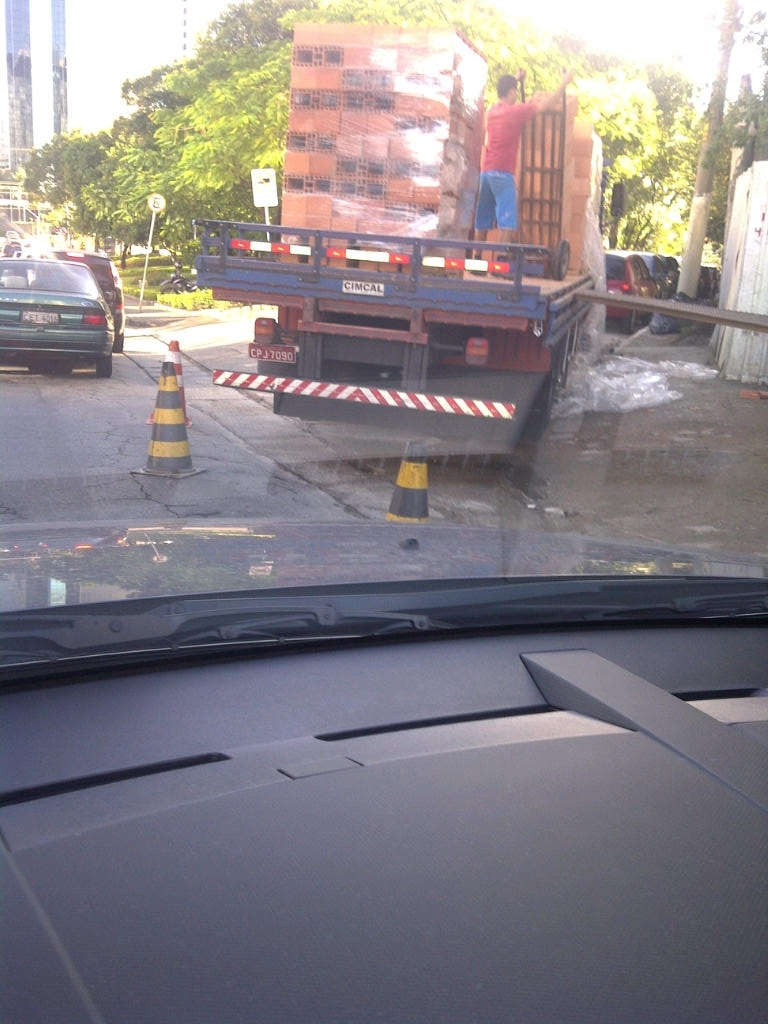Car: (0, 0, 767, 1022), (1, 231, 125, 366), (600, 247, 720, 321)
